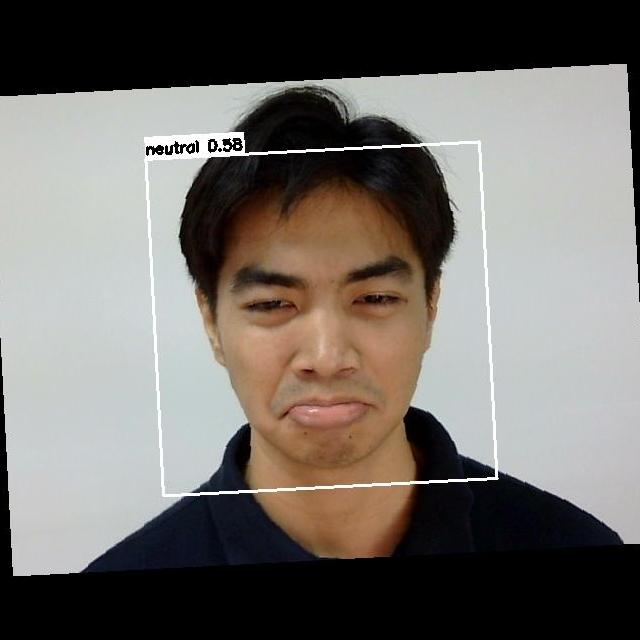Sad: (220, 236, 433, 455)
